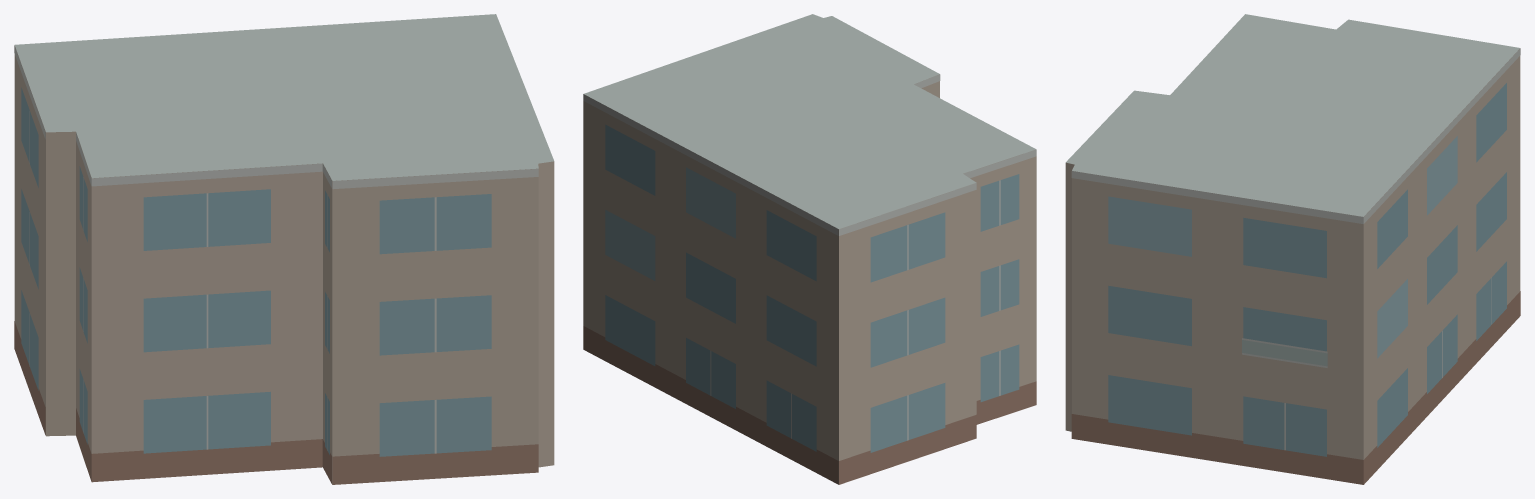
Rendered from survey-upis-32750372.glb.
3 renders of one model, left to right at view 1: azimuth 30°, elevation 25°; view 2: azimuth 150°, elevation 25°; view 3: azimuth 270°, elevation 25°, orthographic. The views are drawn at different scales.
Parts seen in each view (by area): view 1: survey-upis-32750372.tmp; view 2: survey-upis-32750372.tmp; view 3: survey-upis-32750372.tmp.
Boxes of the visible parts, x1=… form: survey-upis-32750372.tmp: x1=14, y1=14, x2=554, y2=484; survey-upis-32750372.tmp: x1=583, y1=14, x2=1036, y2=484; survey-upis-32750372.tmp: x1=1065, y1=14, x2=1520, y2=484.
Size of the model in its own units: 14.63 by 9 by 13.86.
